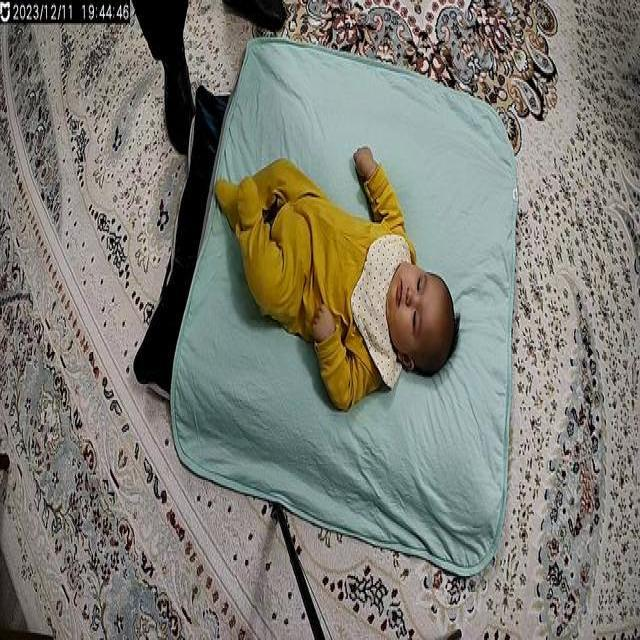baby: (212, 139, 462, 417)
